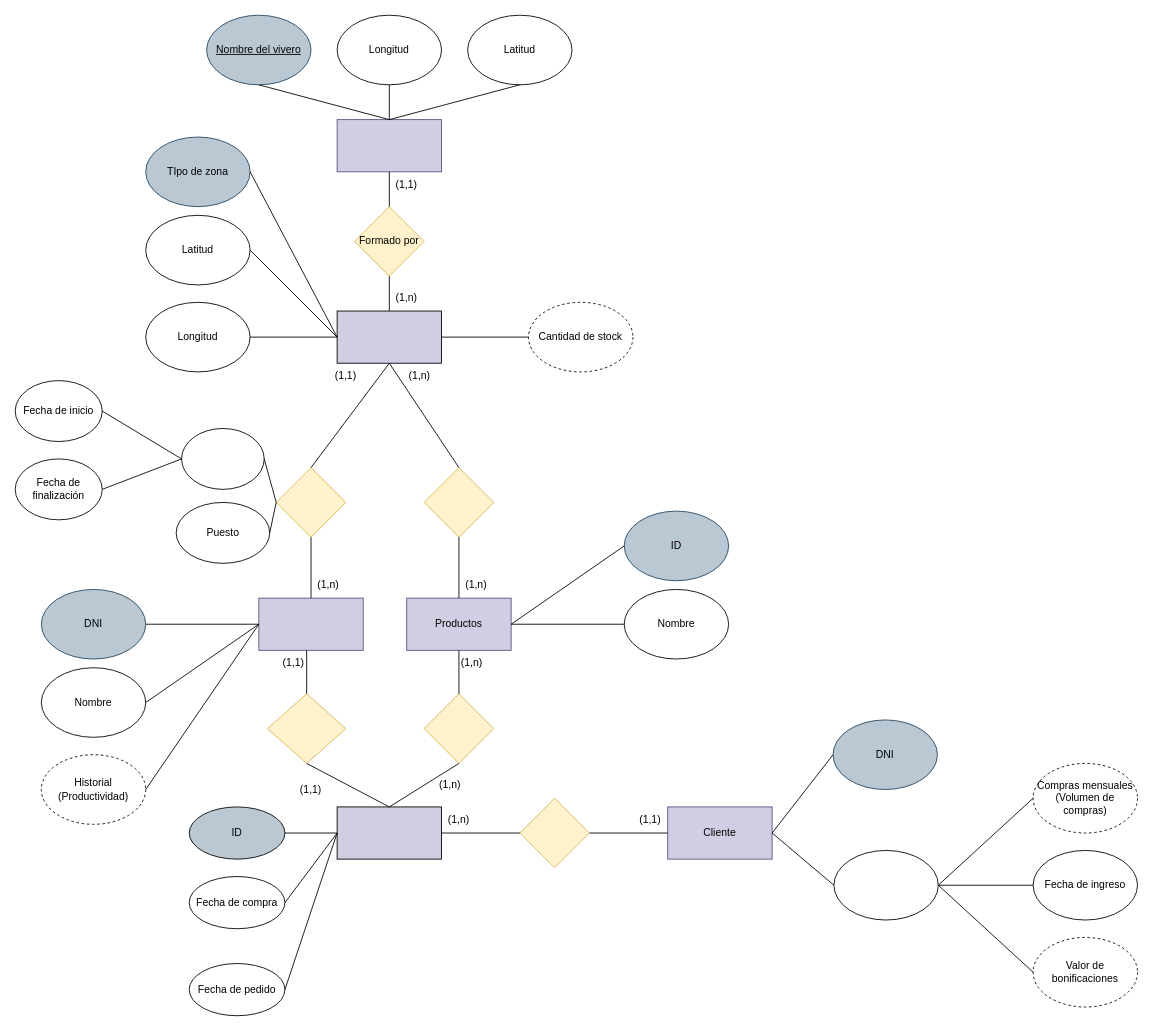
Some shapes in this 1153 by 1031 pixel diagram are drawn without their labels. The shapes that lost their labels are listed below. From the top down, each one's box as (x1, y1, x2, y2) in pixels, then its label:
(336, 119, 442, 172): Viveros
(336, 310, 442, 363): Zonas
(181, 428, 264, 489): Epoca del año
(275, 467, 346, 537): Pertenecen
(423, 467, 494, 537): Contienen
(258, 597, 363, 650): Empleados
(267, 693, 346, 763): Gestiona
(423, 693, 494, 763): Forma
(336, 806, 442, 859): Pedido
(519, 797, 589, 868): Realiza
(833, 850, 938, 920): Afiliado (CLiente Tajinaste plus)(Booleano)
